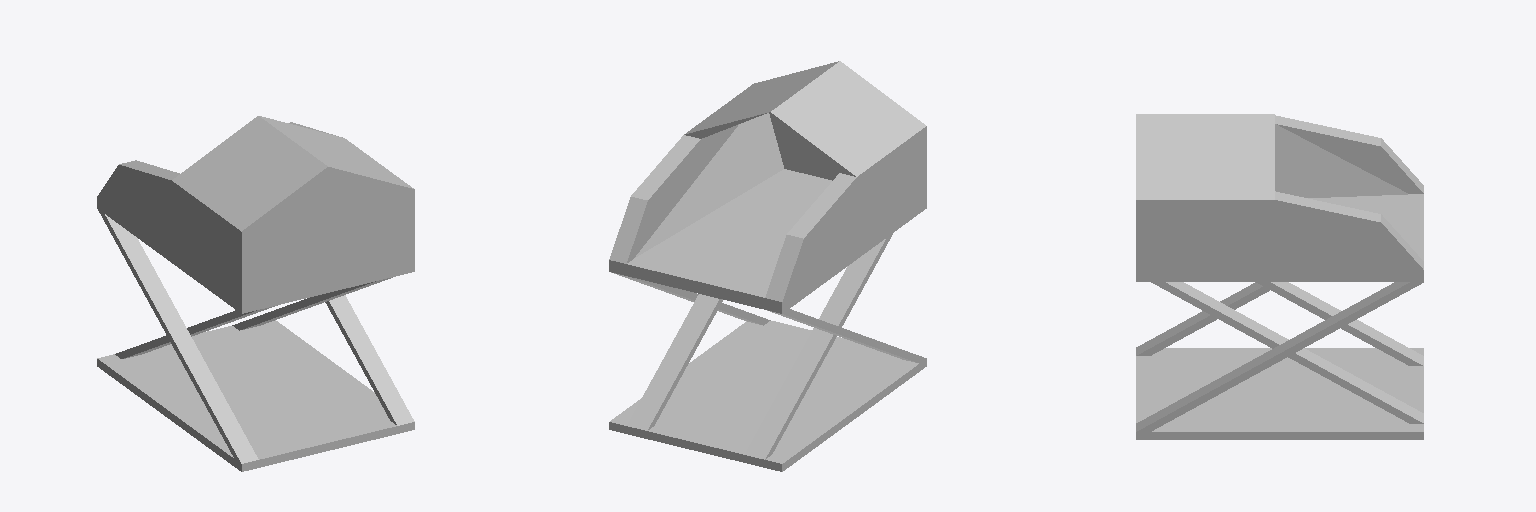
Rendered from prambase.obj.
3 views of the same model, side by side, from view 1: azimuth 30°, elevation 25°; view 2: azimuth 150°, elevation 25°; view 3: azimuth 270°, elevation 25° (orthographic).
Parts seen in each view (by area): view 1: Pram; view 2: Pram; view 3: Pram.
Boxes of the visible parts, x1,y1,x2,y2 form: Pram: [97, 116, 414, 471]; Pram: [609, 61, 926, 471]; Pram: [1136, 114, 1423, 439].
Bounding box in the file's own units: 1 × 1.57 × 1.44.